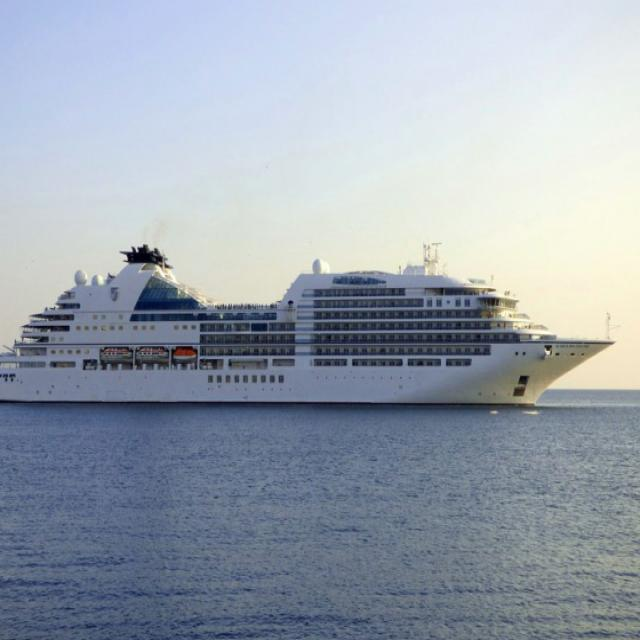cruises: (1, 242, 621, 416)
